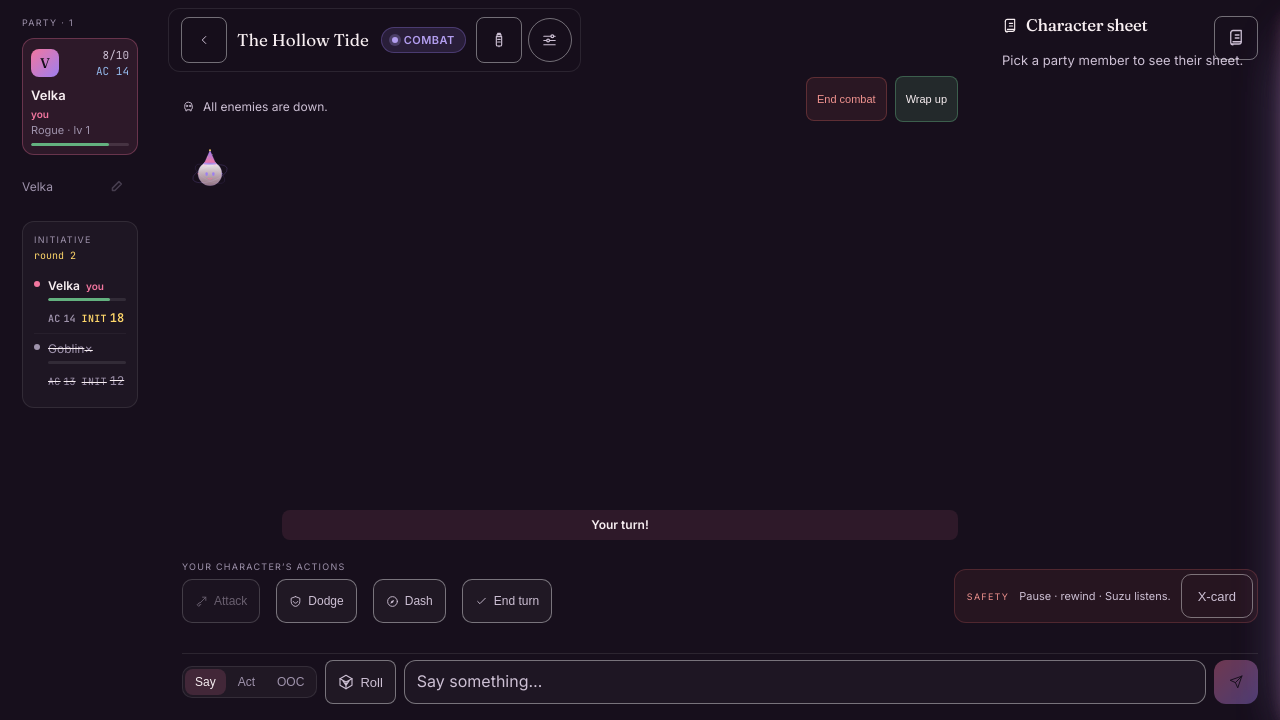
F3/COMBAT-NO-AUTO-RESOLVE — prompt fires when the sole hostile is down › shows the "All enemies are down" banner and its "Wrap up" button opens the SAME outcome chooser
Expected: the text "The Hollow Tide" is shown, [237, 27, 369, 53]
Expected: the text "All enemies are down." is shown, [182, 99, 328, 114]
What coordinates should you click on to do the following:
click the button with aria-label "wrap up the fight"
I would click on:
 (926, 99)
Its box is [895, 76, 958, 122].
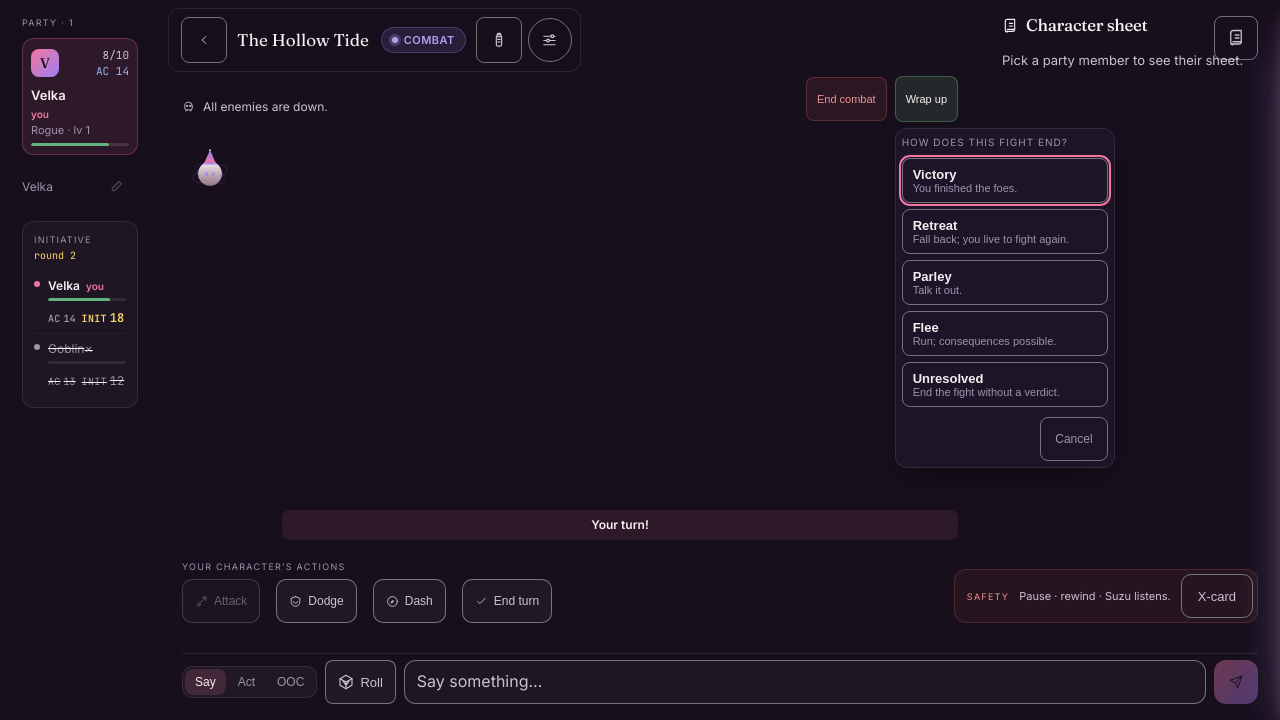
Expected: the element named "Choose combat outcome" is shown, [895, 128, 1115, 468]
Expected: the button "Victory You finished the foes." is shown, [902, 158, 1108, 203]
